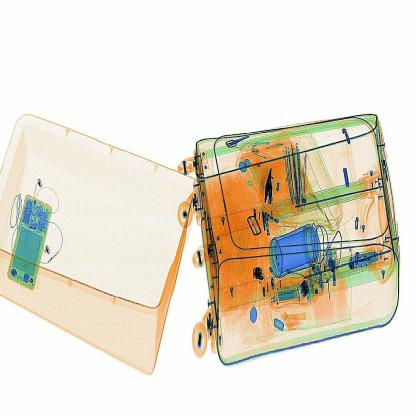scissors: (251, 264, 266, 286)
